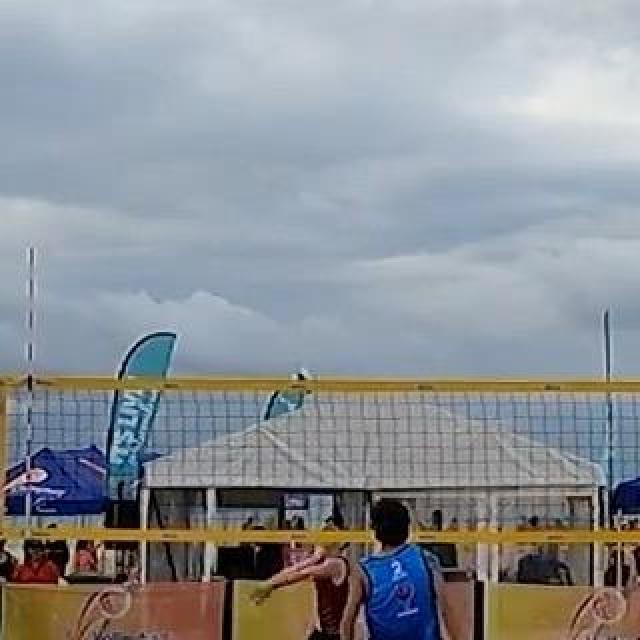volleyball: (291, 370, 313, 396)
